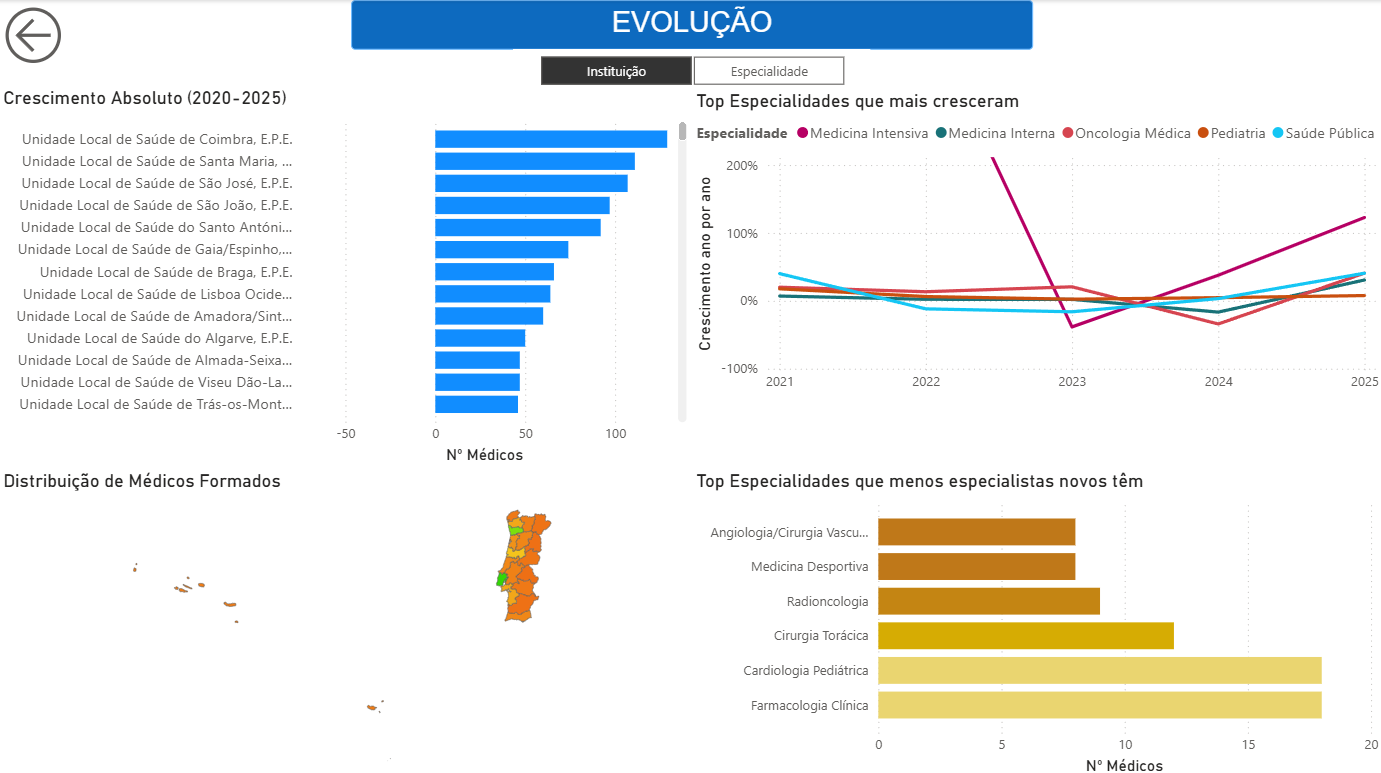

This screenshot's page, from the dashboard's own definition file:
{"tool":"powerbi","page":{"name":"Instituição/Especialidade","canvas":[1280,720],"ordinal":1},"visuals":[{"type":"shapeMap","title":"Distribuição de Médicos Formados","fields":{"Category":["public INSTITUICAO.distrito"],"Value":["Sum(public FORMACAO.quantidade)"]},"box":[0,433.8,636.2,286.7],"z":0},{"type":"textbox","box":[326.1,0,629.9,45.7],"z":1000},{"type":"barChart","title":"Crescimento Absoluto (2020-2025)","fields":{"Category":["public INSTITUICAO.nome"],"Y":["_Measures.Crescimento Absoluto"]},"box":[0,80.6,641,352.6],"z":2000},{"type":"slicer","fields":{"Values":["Parameter especialidades/instituição.Parameter especialidades/instituição"]},"box":[475.9,45.7,330.4,38.2],"z":3000},{"type":"lineChart","title":"Top Especialidades que mais cresceram","fields":{"Category":["public FORMACAO.ano"],"Y":["_Measures.Crescimento ano por ano"],"Series":["public ESPECIALIDADES.nome"]},"box":[640,83,640,286.9],"z":4000},{"type":"barChart","title":"Top Especialidades que menos especialistas novos têm","fields":{"Category":["public ESPECIALIDADES.nome"],"Y":["Sum(public FORMACAO.quantidade)"]},"box":[640,434,640,286],"z":5000},{"type":"actionButton","box":[0,0,67.3,65.2],"z":6000}]}

Visuals, with their boxes in screenshot pixels (x1, y1, x2, y2), scaled from the page's 1280x720 canvas onto the 1381x773 screenshot:
"Distribuição de Médicos Formados" shapeMap: <region>0, 466, 686, 772</region>
textbox: <region>352, 0, 1031, 49</region>
"Crescimento Absoluto (2020-2025)" barChart: <region>0, 87, 692, 465</region>
slicer - Parameter especialidades/instituição.Parameter especialidades/instituição: <region>513, 49, 870, 90</region>
"Top Especialidades que mais cresceram" lineChart: <region>690, 89, 1380, 397</region>
"Top Especialidades que menos especialistas novos têm" barChart: <region>690, 466, 1380, 772</region>
actionButton: <region>0, 0, 73, 70</region>
